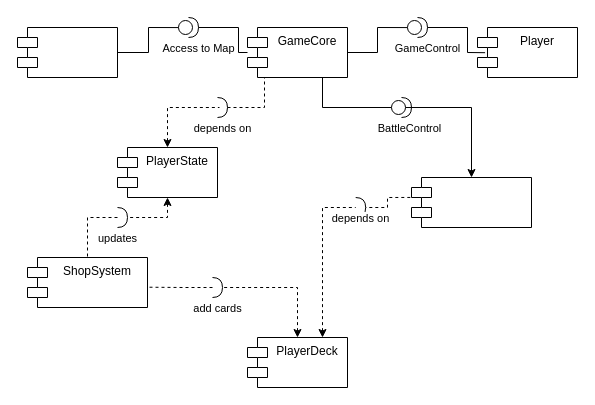
Image size: 595x405. Some labels were removed from this diagram. The shapes that lost their labels are listed below. From the top down, each one's centre as x and y in pixels, then its label:
(x=67, y=52): GameMap
(x=471, y=202): CombatSystem
